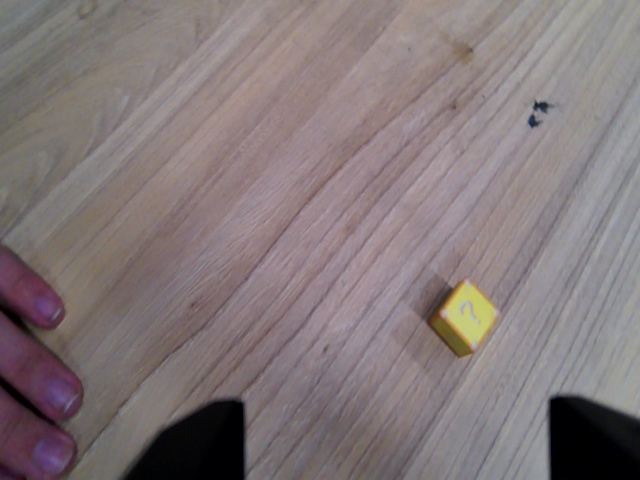lucky: (426, 275, 503, 360)
